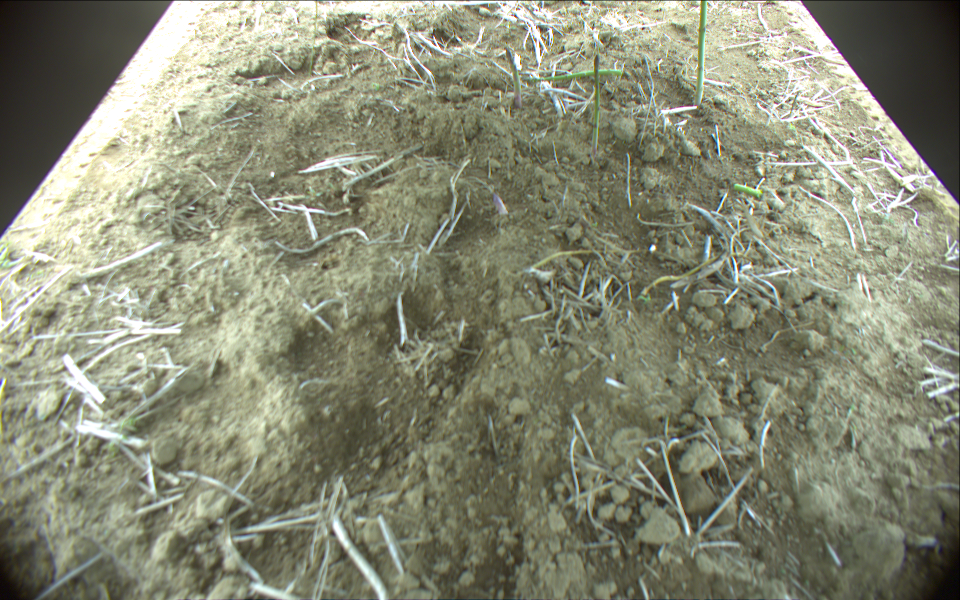aspa: (504, 47, 524, 109), (696, 1, 707, 105), (524, 68, 623, 79), (592, 55, 600, 153), (733, 183, 763, 195), (494, 195, 507, 216)
